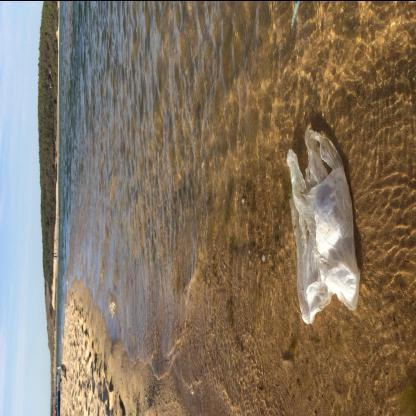plastik: (287, 125, 362, 325)
